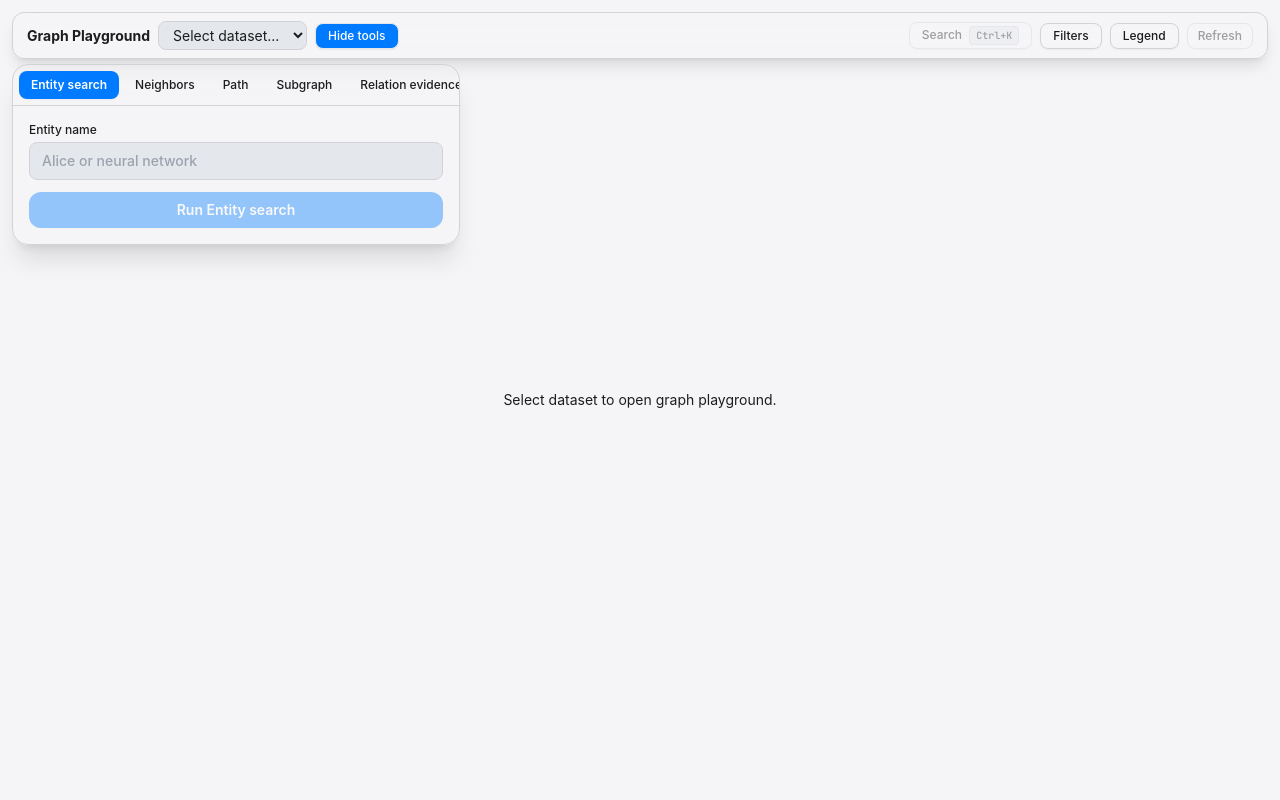
Test: GraphPage › loads explorer in graph playground
Check: the text "Graph Playground" is shown, box [27, 26, 150, 46]
Select "Research" in the dropdown named "Dataset" at (232,36), box [158, 21, 307, 50]
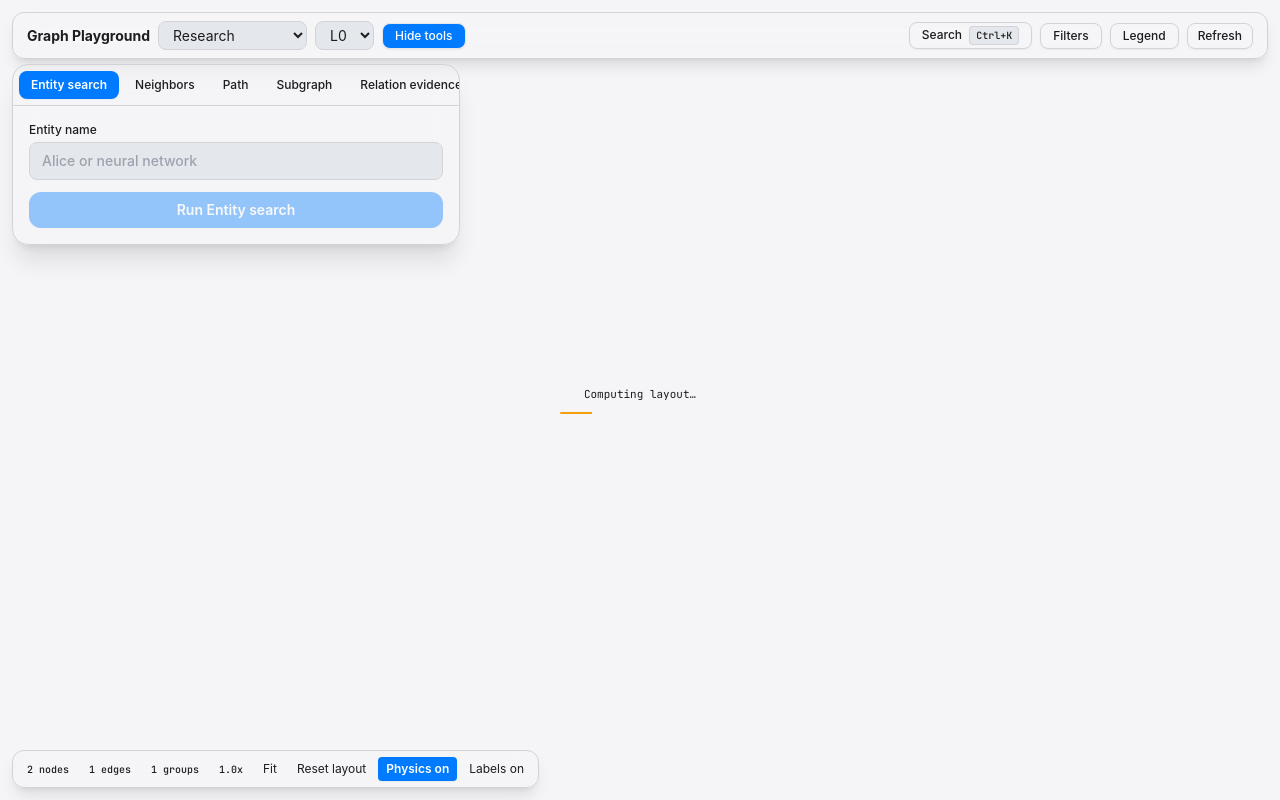
Check: the button "Entity search" is shown, box [19, 71, 119, 99]
Check: the text "2 nodes" is shown, box [27, 762, 69, 776]
Check: the text "1 edges" is shown, box [89, 762, 131, 776]
